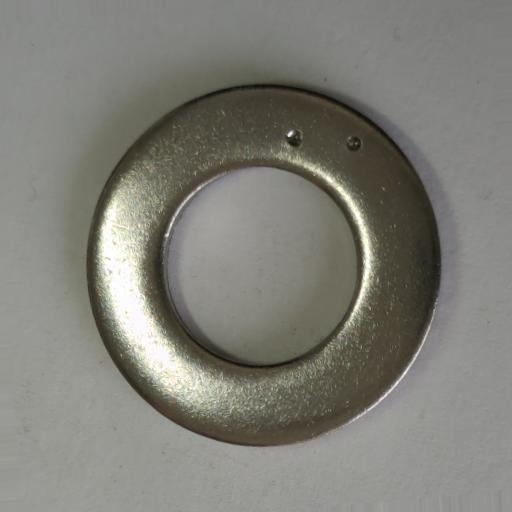circular_cavity: (286, 129, 303, 146), (348, 136, 362, 150)
